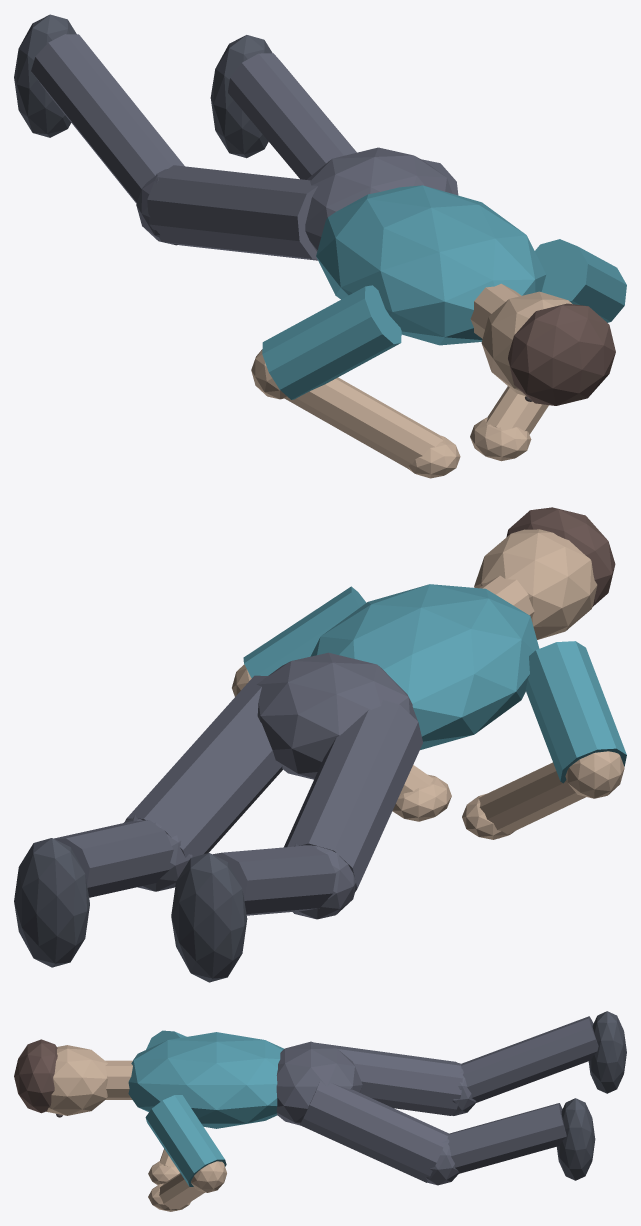
The picture shows the model from 3 angles, top to bottom: view 1: azimuth 30°, elevation 25°; view 2: azimuth 150°, elevation 25°; view 3: azimuth 270°, elevation 25°; orthographic projection. The views are drawn at different scales.
Parts seen in each view (by area): view 1: world; view 2: world; view 3: world.
Part boxes in pixels (<box>): world: <box>14,14,626,478</box>; world: <box>14,507,626,982</box>; world: <box>14,1011,626,1211</box>.
Size of the model in its own units: 0.93 by 0.57 by 2.01.
